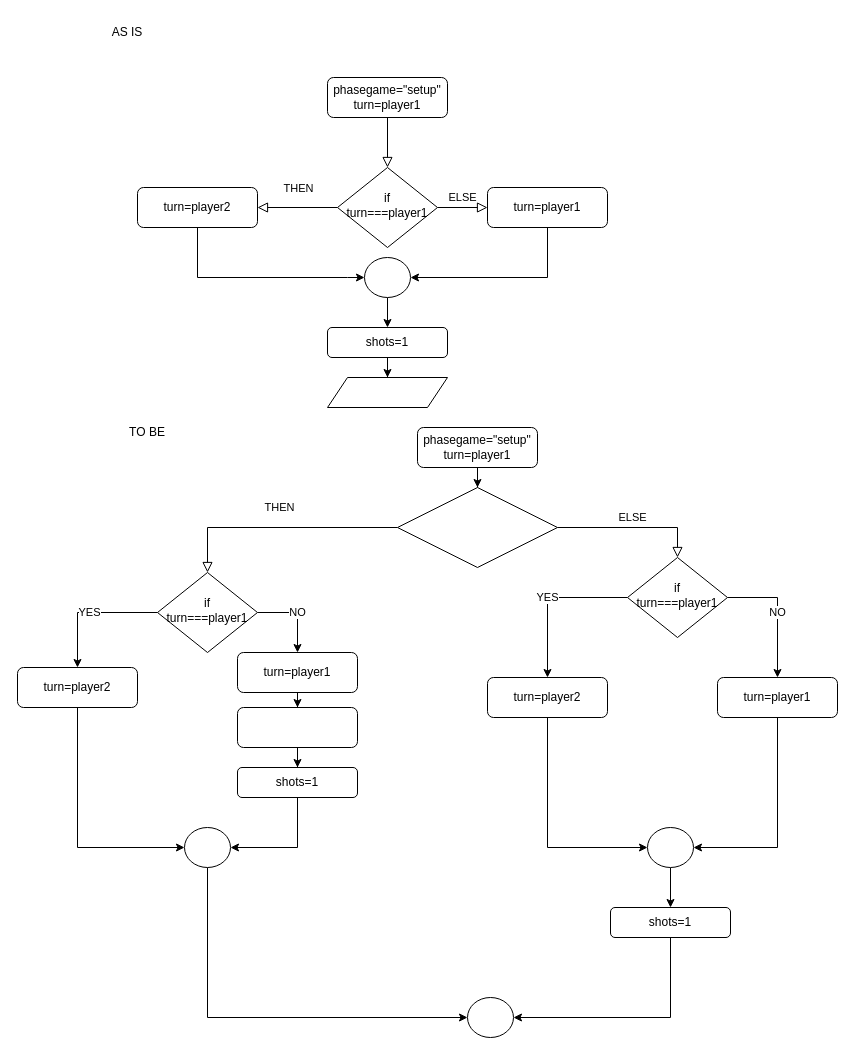
The diagram is 855 pixels wide and 1055 high, and some of its shapes have lost their labels. Here are the shapes that lost their labels. From the top down, the centre of each, then its label:
At (x=387, y=392): "updateui()".
At (x=477, y=527): "if phasegame===setup".
At (x=297, y=727): "phasegame=fire".
